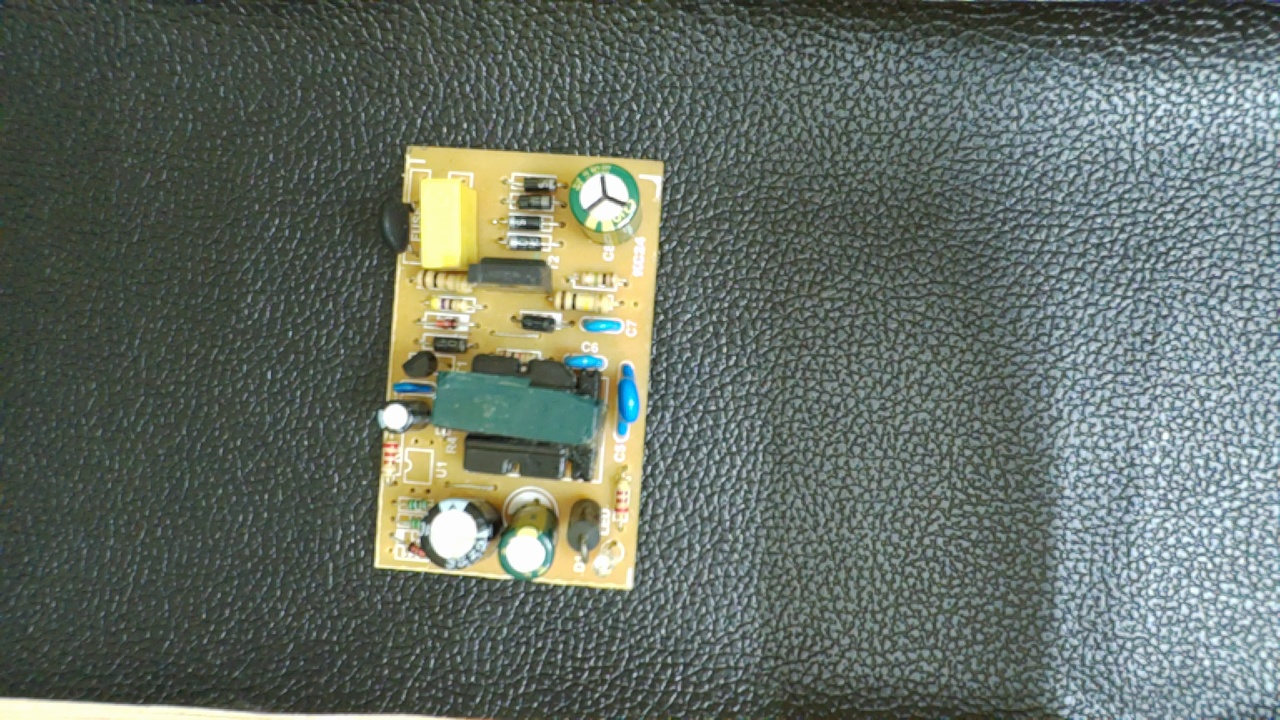fuse: (380, 173, 419, 267)
hv_capacitor: (564, 162, 647, 249)
mov: (612, 357, 642, 449)
